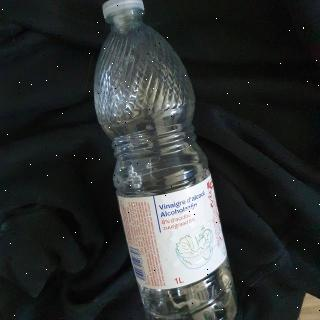Plastic-bottle: (95, 1, 245, 320)
